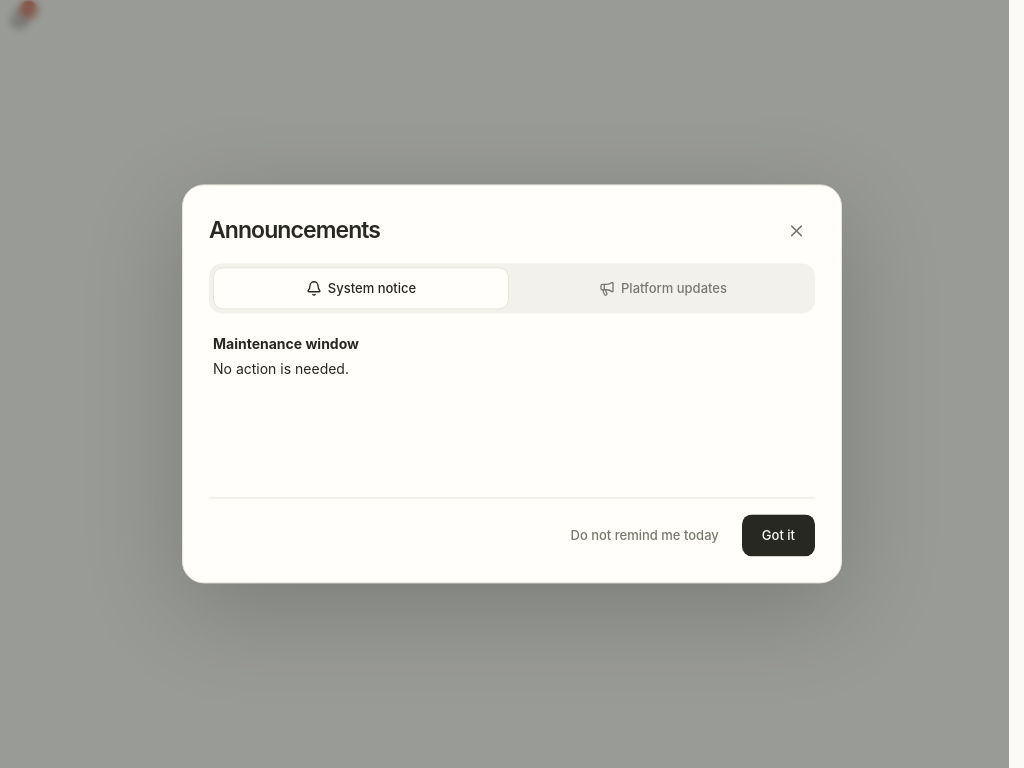
Test: continues to show and dismiss notices when browser storage is unavailable
Expected: the dialog is shown, [182,184,842,584]
Click the button "Got it" at (778, 536), box [742,514,815,557]
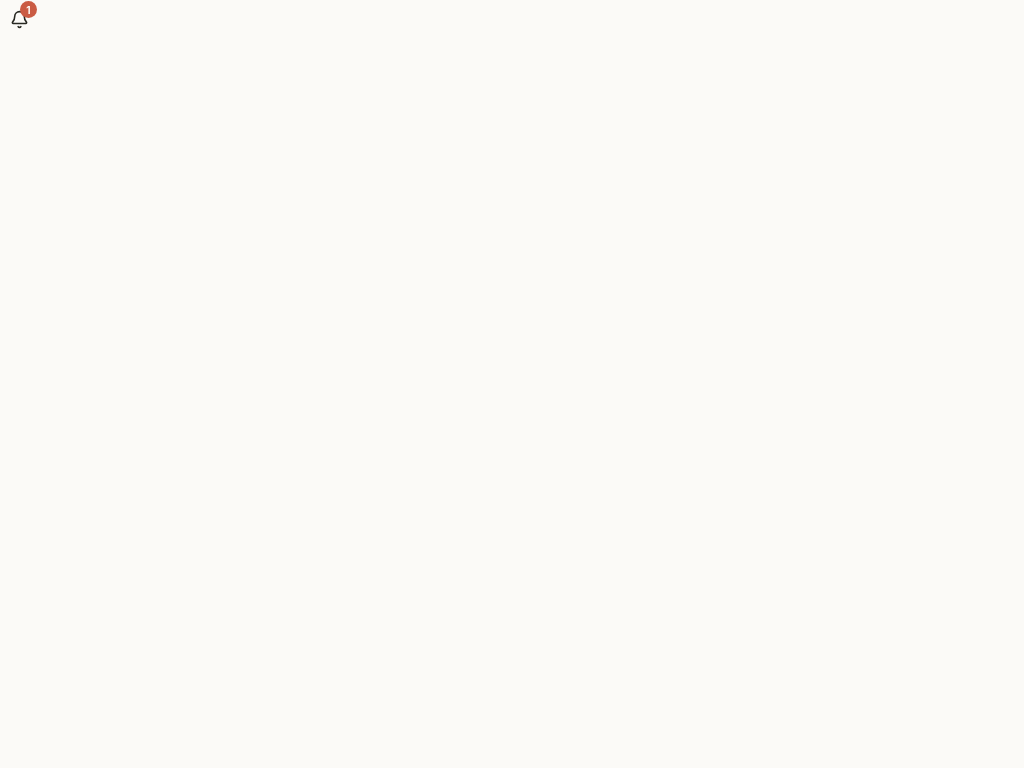
Result: the dialog is gone
